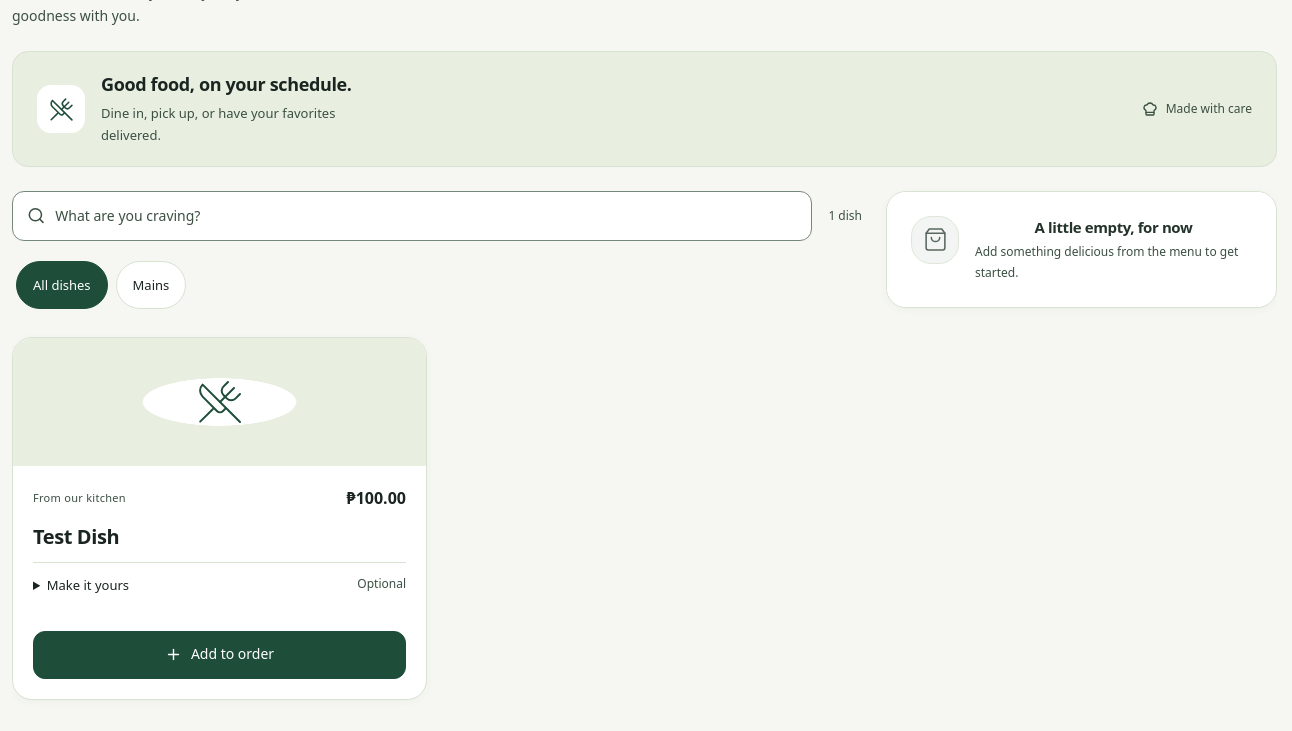
Scenario: keeps the saved cart when checkout fails
Click the button "Add to order" at (220, 655), box [33, 631, 406, 679]
(page scrolled)
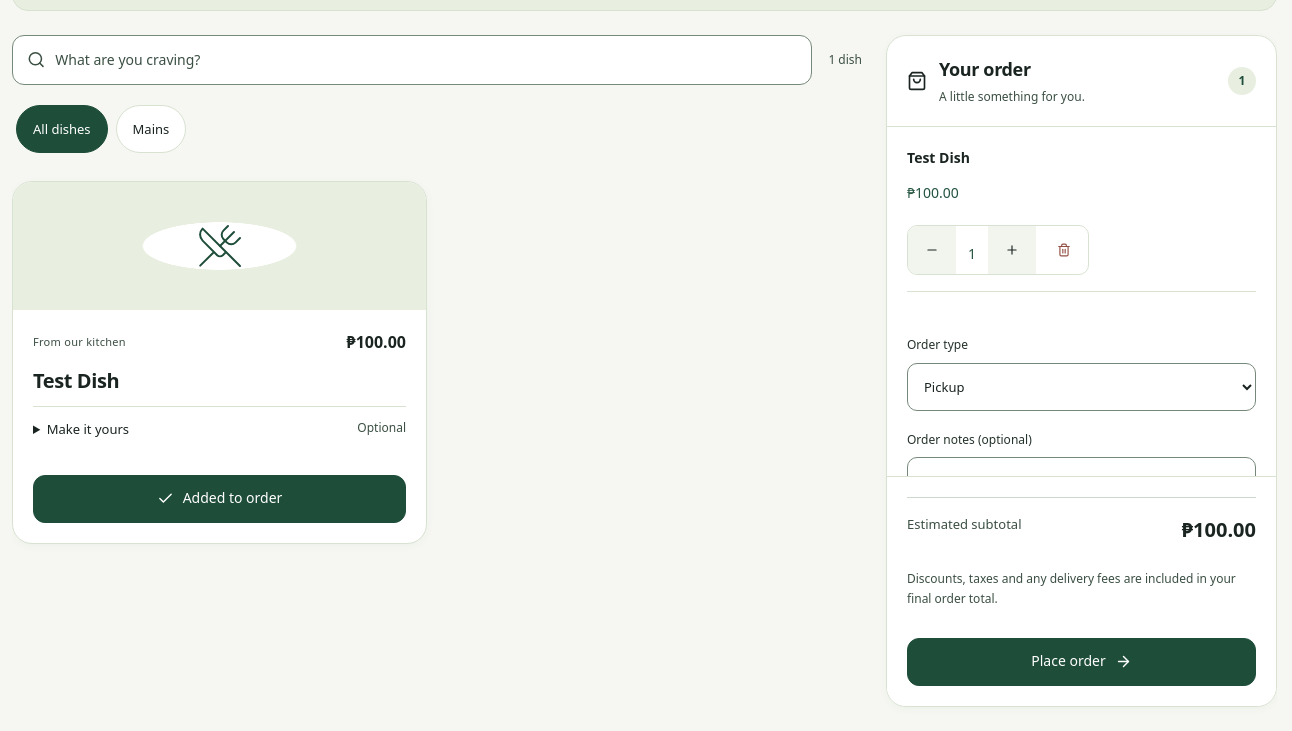
Submit the form named "Place order", box [887, 127, 1276, 706]
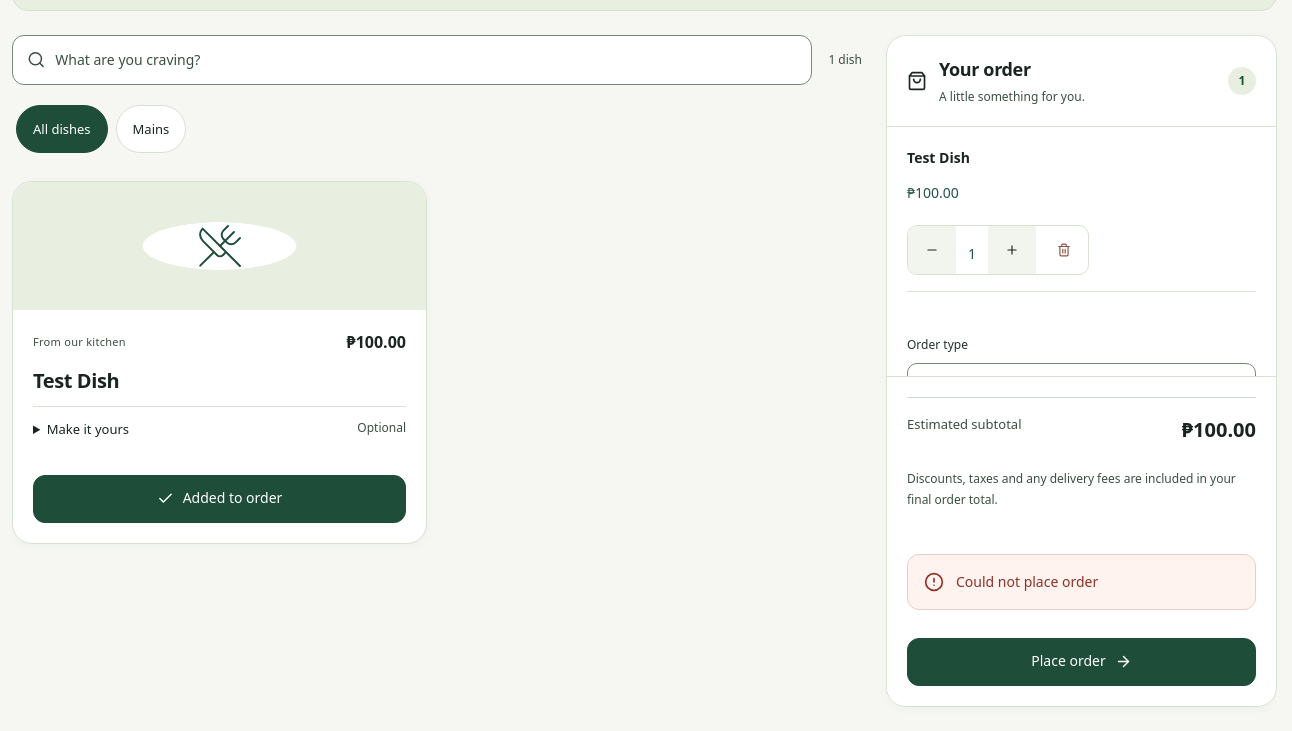
Expected: the text named "Quantity: 1" is shown, [968, 244, 976, 263]
Expected: the text "Could not place order" is shown, [956, 572, 1098, 591]
